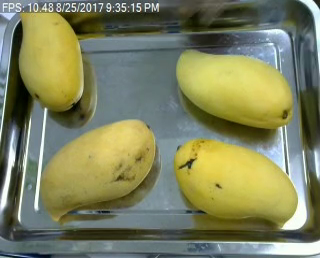Mango: (24, 117, 165, 224), (172, 134, 305, 228), (174, 38, 302, 132), (8, 1, 91, 113)
